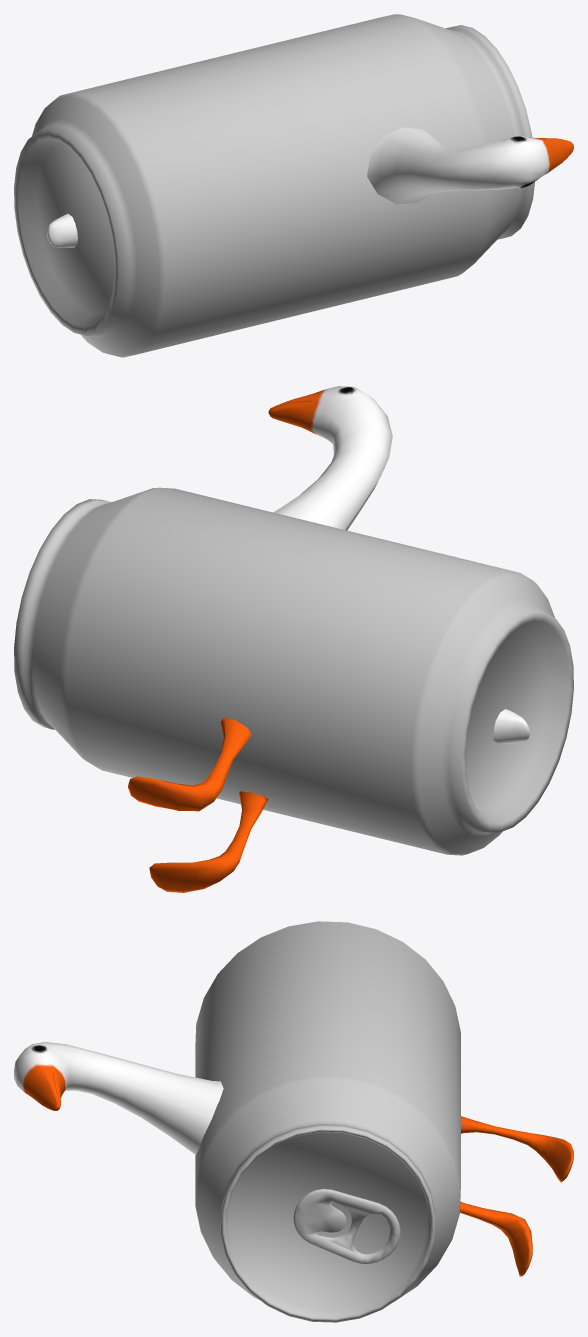
Rendered from ref_goose_colacup.fbx.
3 renders of one model, top to bottom at view 1: azimuth 30°, elevation 25°; view 2: azimuth 150°, elevation 25°; view 3: azimuth 270°, elevation 25°, orthographic. The views are drawn at different scales.
Parts seen in each view (by area): view 1: ref_goose_colacup_part1, ref_goose_colacup_part0; view 2: ref_goose_colacup_part1, ref_goose_colacup_part0; view 3: ref_goose_colacup_part1, ref_goose_colacup_part0.
Boxes of the visible parts, <box> form: ref_goose_colacup_part1: <box>14,14,534,357</box>; ref_goose_colacup_part0: <box>47,127,573,247</box>; ref_goose_colacup_part1: <box>14,487,573,855</box>; ref_goose_colacup_part0: <box>128,386,530,892</box>; ref_goose_colacup_part1: <box>195,921,460,1322</box>; ref_goose_colacup_part0: <box>14,1042,573,1276</box>.
Size of the model in its own units: 87.01 by 52.34 by 100.
